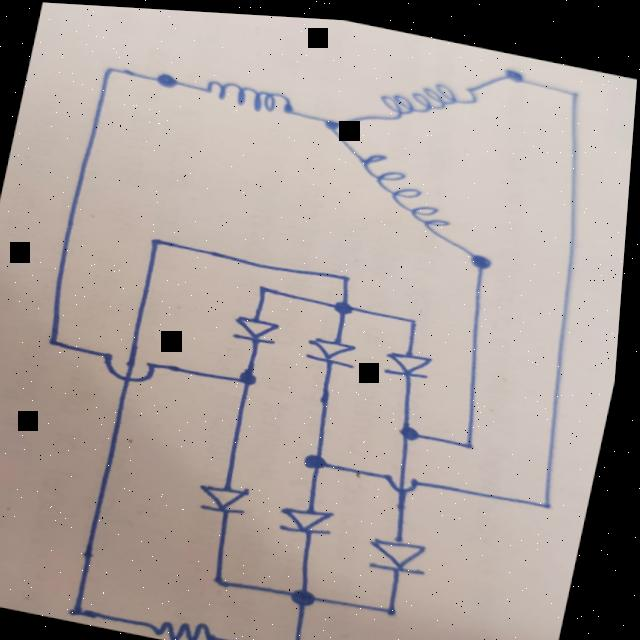crossover: (101, 347, 165, 385), (386, 465, 430, 491)
diode: (375, 527, 439, 573), (285, 499, 344, 536), (203, 477, 258, 515), (310, 330, 365, 365), (235, 309, 287, 345), (388, 342, 439, 376)
inductor: (345, 144, 468, 232), (377, 65, 483, 125), (202, 76, 300, 115)
junction: (67, 597, 109, 622), (211, 566, 247, 593), (296, 580, 331, 606), (379, 593, 415, 617), (468, 244, 500, 269), (309, 447, 342, 471), (537, 487, 571, 510), (144, 228, 176, 251), (236, 364, 267, 387), (41, 330, 73, 352), (151, 68, 184, 89), (319, 111, 352, 132), (558, 77, 589, 99), (500, 60, 528, 81), (401, 418, 429, 438), (334, 293, 361, 313), (252, 277, 279, 295), (402, 308, 428, 325), (336, 265, 361, 282), (461, 430, 486, 447), (100, 61, 123, 77), (286, 635, 321, 640)
resistor: (162, 612, 234, 640)
